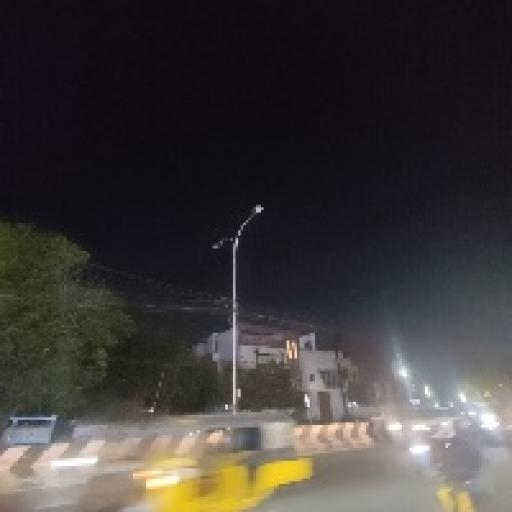Not Working: (242, 199, 270, 223), (206, 237, 224, 257)
Working: (394, 360, 413, 384), (420, 382, 431, 399)
